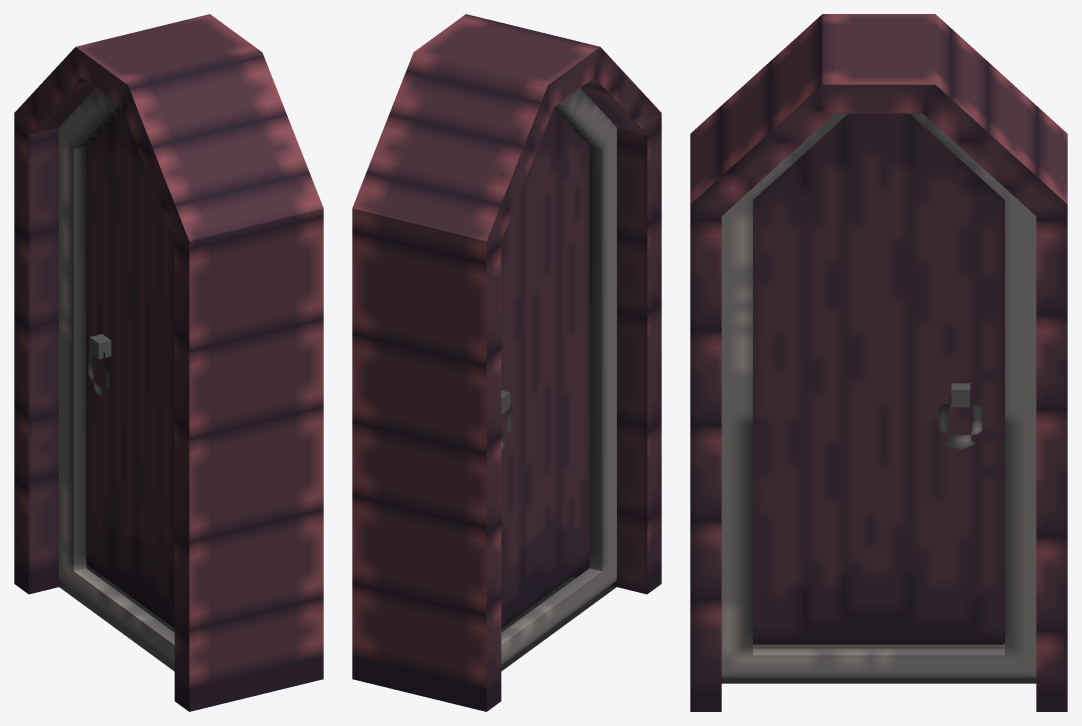
The model's file is door.fbx.
3 renders of one model, left to right at view 1: azimuth 30°, elevation 25°; view 2: azimuth 150°, elevation 25°; view 3: azimuth 270°, elevation 25°, orthographic. The views are drawn at different scales.
Visible parts, largest first — view 1: Box002, door_wood; view 2: Box002, door_wood; view 3: door_wood, Box002.
Boxes of the visible parts, x1=… form: Box002: x1=14, y1=14, x2=323, y2=711; door_wood: x1=59, y1=88, x2=174, y2=671; Box002: x1=352, y1=14, x2=661, y2=711; door_wood: x1=501, y1=88, x2=616, y2=671; door_wood: x1=721, y1=113, x2=1036, y2=683; Box002: x1=690, y1=14, x2=1067, y2=711.
Size of the model in its own units: 20.94 by 47.24 by 86.61.
Materials: 2 (2 with a texture image).
